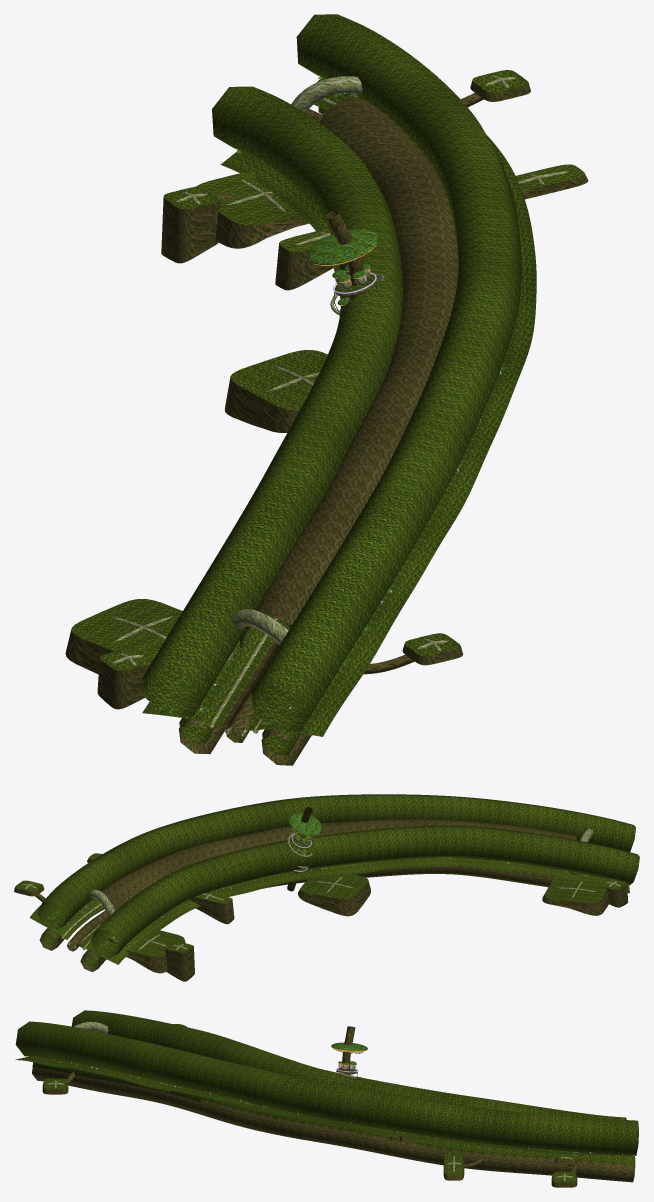
File: mycelium.glb
3 views of the same model, one above another, from view 1: azimuth 30°, elevation 25°; view 2: azimuth 150°, elevation 25°; view 3: azimuth 270°, elevation 25° (orthographic). The views are drawn at different scales.
Bounding box in the file's own units: 854 × 271 × 1044.
8 materials, 8 textured.
